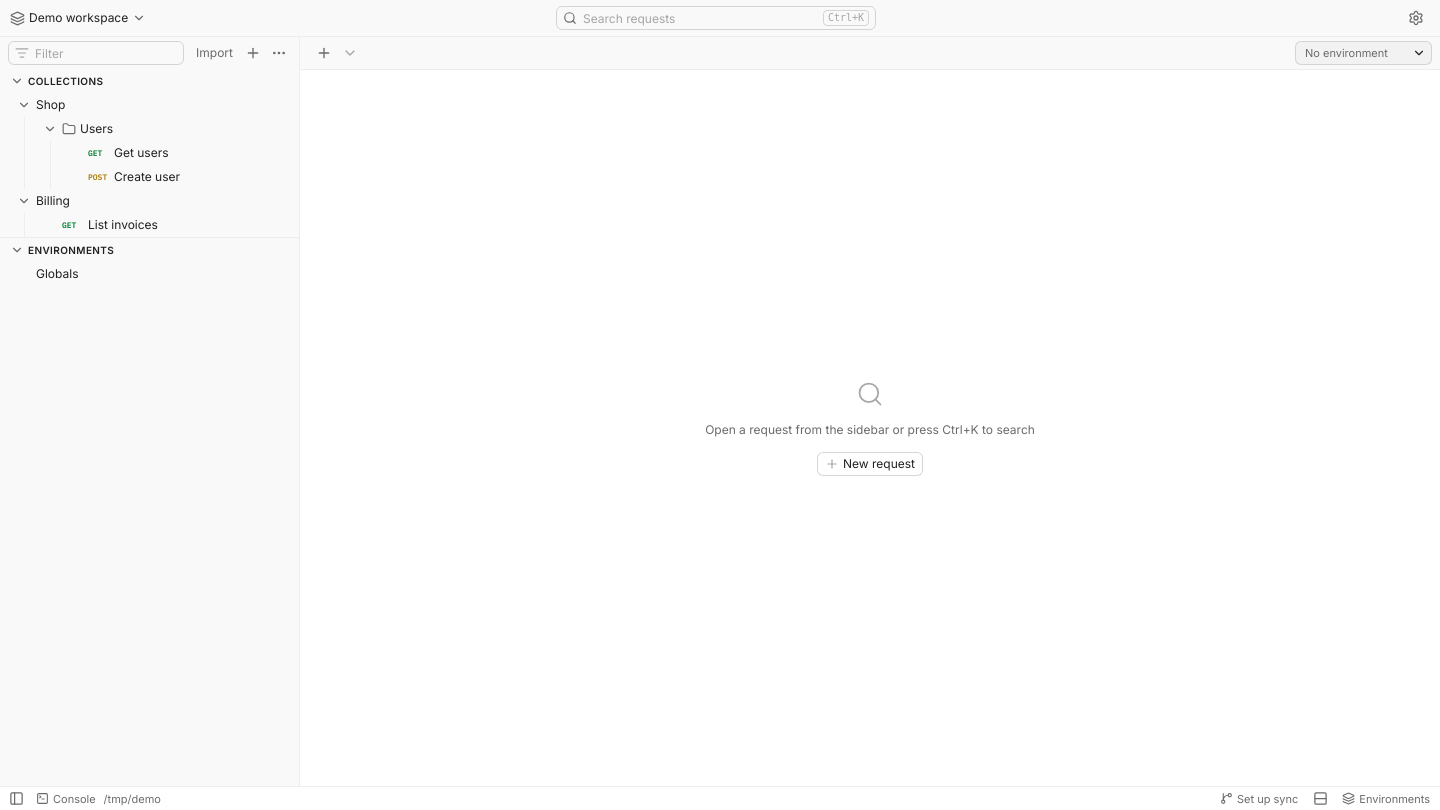
Test: sidebar › collapses every folder from the more menu
Click the button named "More sidebar actions".
click(279, 53)  # box top-left (267, 41), bottom-right (291, 65)
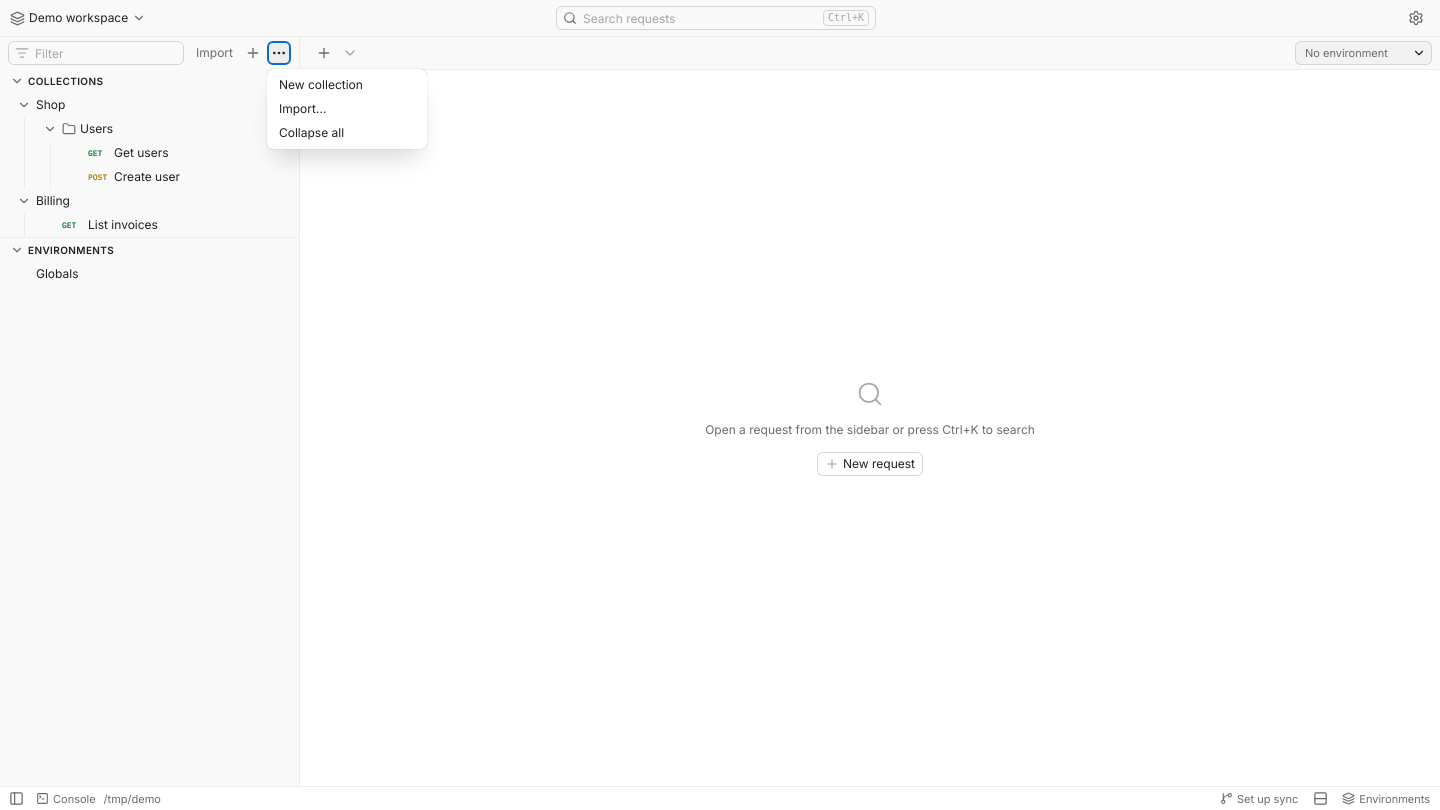
Click the menu item "Collapse all".
click(347, 133)  # box top-left (271, 121), bottom-right (423, 145)
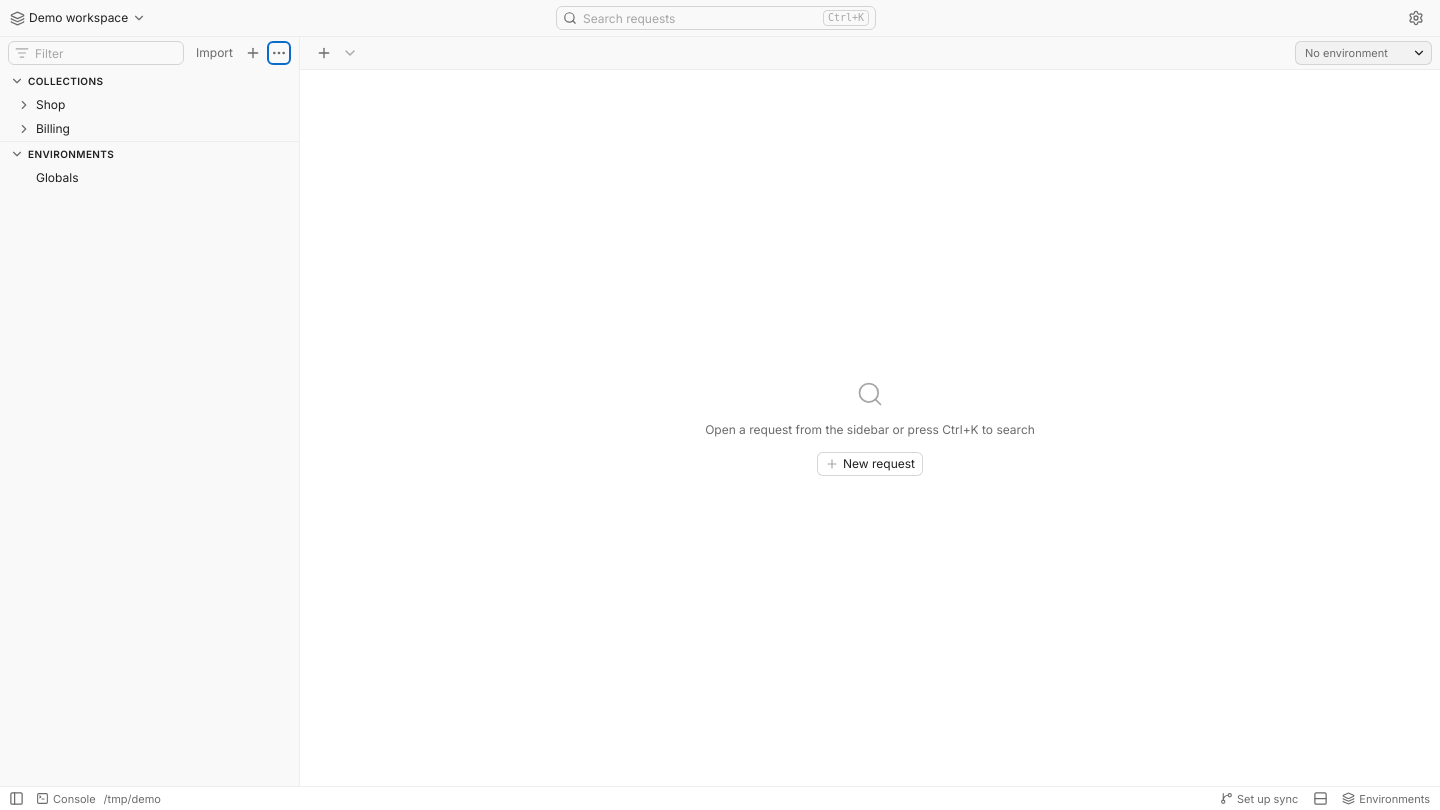
Check: the text "Users" is gone
